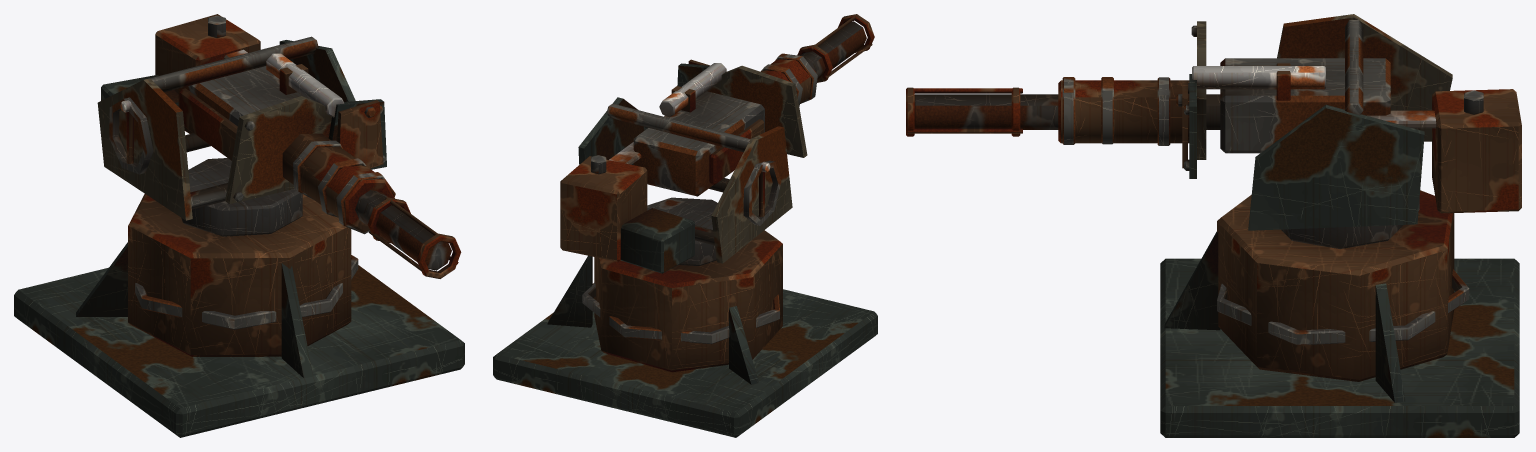
The model's file is R4W_Basic_LOD1.glb.
The picture shows the model from 3 angles, left to right: view 1: azimuth 30°, elevation 25°; view 2: azimuth 150°, elevation 25°; view 3: azimuth 270°, elevation 25°; orthographic projection. The views are drawn at different scales.
Parts seen in each view (by area): view 1: R4W_Basic_LOD1; view 2: R4W_Basic_LOD1; view 3: R4W_Basic_LOD1.
Boxes of the visible parts, x1,y1,x2,y2 form: R4W_Basic_LOD1: (14, 14, 464, 437); R4W_Basic_LOD1: (493, 14, 877, 437); R4W_Basic_LOD1: (906, 14, 1521, 437).
Size of the model in its own units: 0.51 by 0.496 by 0.8741.
Materials: 5 (5 with a texture image).
